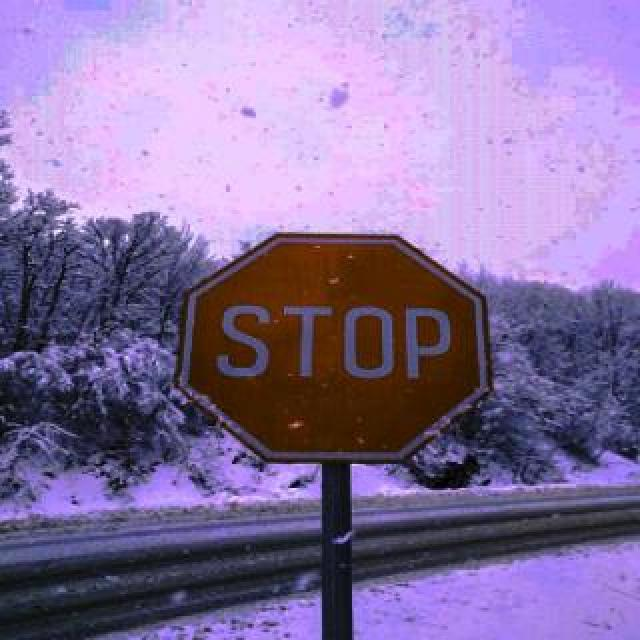stop: (170, 234, 490, 462)
